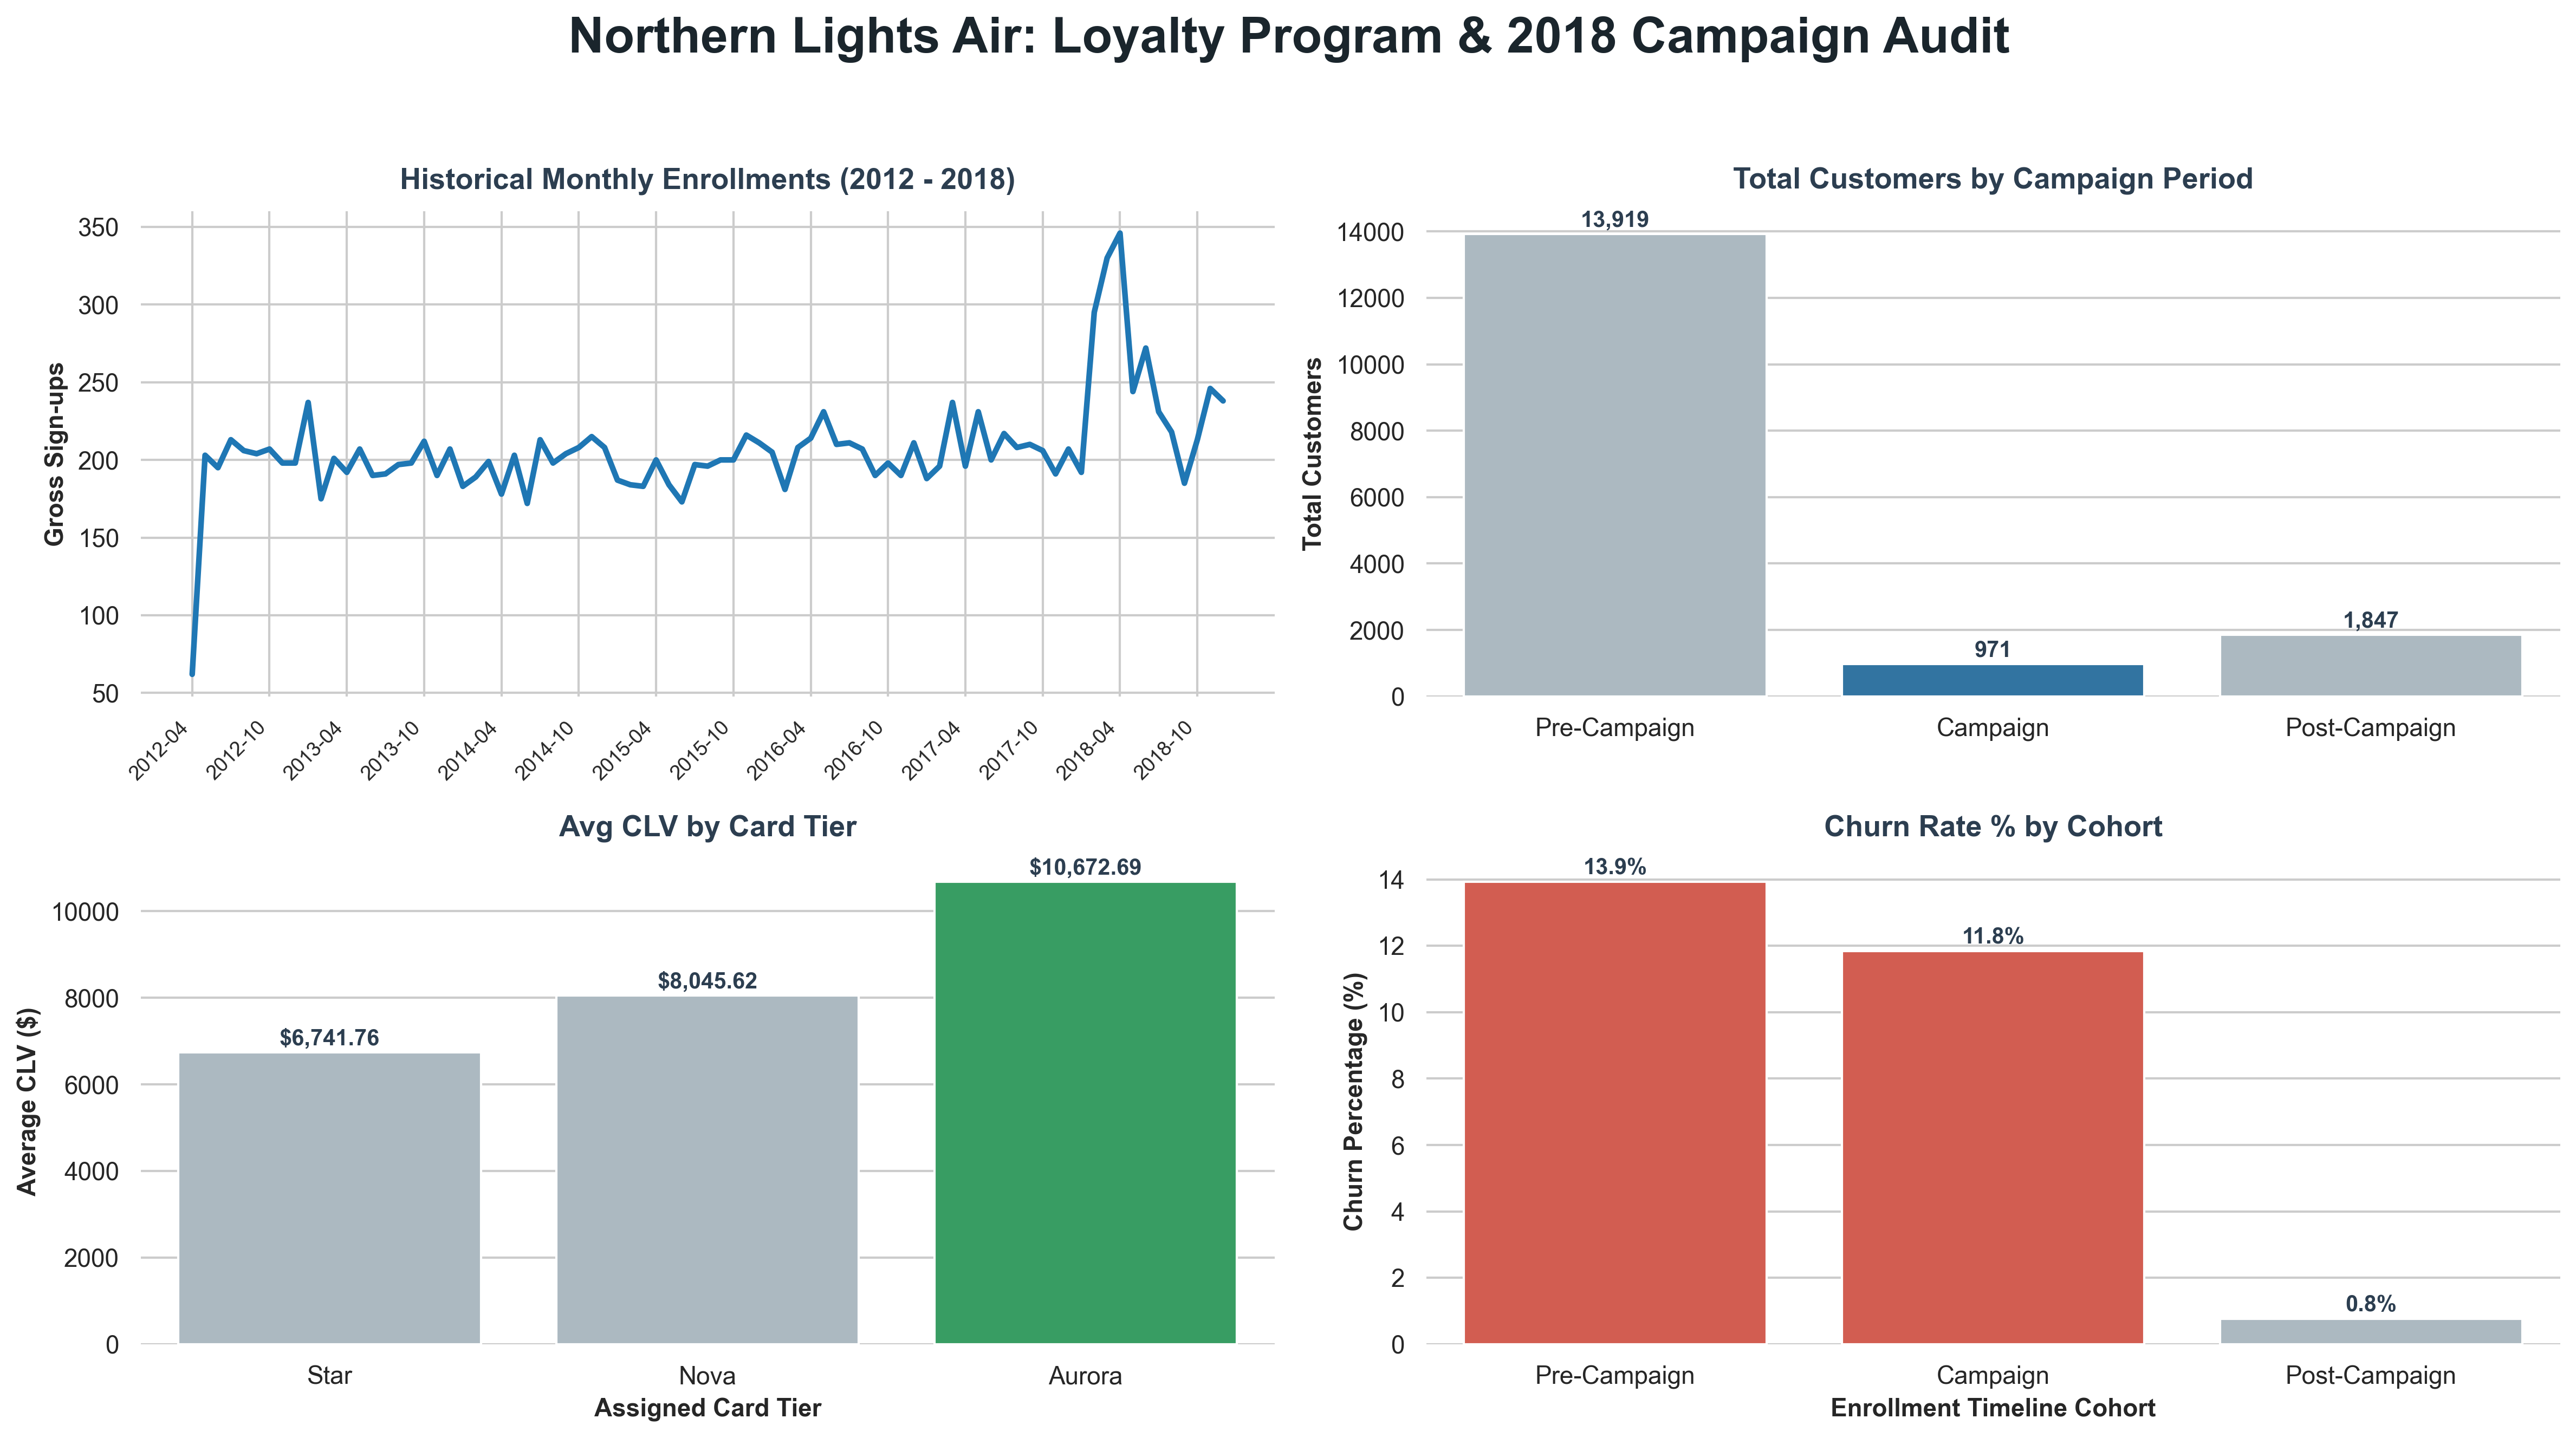

This screenshot's page, from the dashboard's own definition file:
{"tool":"powerbi","page":{"name":"Executive overview","canvas":[1280,720],"ordinal":0},"visuals":[{"type":"card","title":"Total Members","fields":{"Values":["CountNonNull(final_customer_data.loyalty_number)"]},"box":[212.9,84.3,162.9,71.4],"z":0},{"type":"shape","box":[0,0,188.6,720],"z":1000},{"type":"card","title":"Active Members","fields":{"Values":["measures (2).Active Members"]},"box":[405.7,84.3,162.9,71.4],"z":2000},{"type":"card","title":"Retention Rate","fields":{"Values":["measures (2).Retention Rate"]},"box":[1001.4,84.3,162.9,71.4],"z":3000},{"type":"card","title":"Average CLV","fields":{"Values":["measures (2).Average CLV"]},"box":[808.6,84.3,162.9,71.4],"z":4000},{"type":"card","title":"Cancelled Members","fields":{"Values":["measures (2).Cancelled Members"]},"box":[598.6,84.3,177.1,71.4],"z":5000},{"type":"lineChart","title":"Member Enrollment Pattern ","fields":{"Category":["Customers.enrollment_date"],"Y":["Count(Customers.loyalty_number)"]},"box":[188.6,175.7,731.4,268.6],"z":6000},{"type":"clusteredColumnChart","fields":{"Category":["Customers.campaign_period"],"Y":["measures (2).Total Members"]},"box":[890,162.5,390,263.8],"z":7000},{"type":"textbox","box":[1060,181.4,185.7,24.3],"z":8000},{"type":"textbox","box":[224.3,175.7,240,28.6],"z":9000},{"type":"donutChart","fields":{"Category":["Customers.loyalty_card"],"Y":["measures (2).Total Members"]},"box":[738.8,487.5,246.2,232.5],"z":10000},{"type":"textbox","box":[747.5,471.2,230,25],"z":11000},{"type":"clusteredColumnChart","fields":{"Category":["Customers.loyalty_card"],"Y":["measures (2).Average CLV"]},"box":[993.8,467.5,252.5,252.5],"z":12000},{"type":"textbox","box":[1026.2,471.2,203.8,25],"z":13000},{"type":"shape","box":[464.3,181.4,90,22.9],"z":14000},{"type":"shape","box":[188.6,182.9,48.6,14.3],"z":15000},{"type":"shape","box":[548.6,185.7,12.9,14.3],"z":16000},{"type":"clusteredBarChart","fields":{"Category":["Customers.province"],"Y":["Count(Customers.loyalty_number)"]},"box":[197.5,445,498.8,275],"z":17000},{"type":"textbox","box":[463.8,635,168.8,25],"z":18000},{"type":"textbox","box":[852.5,417.5,427.5,53.8],"z":19000},{"type":"slicer","title":"Salary Range","fields":{"Values":["Customers.salary_buckets"]},"box":[30,317.5,127.5,150],"z":19001},{"type":"slicer","title":"Select Province","fields":{"Values":["Customers.province"]},"box":[12.5,218.8,161.2,76.2],"z":19002},{"type":"slicer","title":"Gender","fields":{"Values":["Customers.gender"]},"box":[30,485,127.5,97.5],"z":19003},{"type":"actionButton","box":[30,586.2,105,36.2],"z":19004},{"type":"actionButton","box":[0,82.5,167.5,56.2],"z":19005},{"type":"actionButton","box":[0,26.2,167.5,36.2],"z":19006},{"type":"textbox","box":[311.2,0,817.5,48.8],"z":19007},{"type":"textbox","box":[640,43.8,137.5,38.8],"z":19008},{"type":"shape","box":[1128.8,7.5,151.2,38.8],"z":19009},{"type":"shape","box":[188.8,6.2,122.5,38.8],"z":19010}]}

Visuals, with their boxes in screenshot pixels (x1, y1, x2, y2), scaled from the page's 1280x720 canvas onto the 2576x1438 screenshot:
"Total Members" card: select_region(429, 168, 756, 311)
shape: select_region(0, 0, 380, 1437)
"Active Members" card: select_region(816, 168, 1144, 311)
"Retention Rate" card: select_region(2015, 168, 2343, 311)
"Average CLV" card: select_region(1627, 168, 1955, 311)
"Cancelled Members" card: select_region(1205, 168, 1561, 311)
"Member Enrollment Pattern " lineChart: select_region(380, 351, 1852, 887)
clusteredColumnChart - Customers.campaign_period x measures (2).Total Members: select_region(1791, 324, 2575, 851)
textbox: select_region(2133, 362, 2507, 411)
textbox: select_region(451, 351, 935, 408)
donutChart - Customers.loyalty_card x measures (2).Total Members: select_region(1487, 974, 1982, 1437)
textbox: select_region(1504, 941, 1967, 991)
clusteredColumnChart - Customers.loyalty_card x measures (2).Average CLV: select_region(2000, 934, 2508, 1437)
textbox: select_region(2065, 941, 2475, 991)
shape: select_region(935, 362, 1115, 408)
shape: select_region(380, 365, 477, 394)
shape: select_region(1104, 371, 1130, 400)
clusteredBarChart - Customers.province x Count(Customers.loyalty_number): select_region(398, 889, 1401, 1437)
textbox: select_region(933, 1268, 1273, 1318)
textbox: select_region(1716, 834, 2575, 941)
"Salary Range" slicer: select_region(60, 634, 317, 934)
"Select Province" slicer: select_region(25, 437, 349, 589)
"Gender" slicer: select_region(60, 968, 317, 1163)
actionButton: select_region(60, 1171, 272, 1243)
actionButton: select_region(0, 165, 337, 277)
actionButton: select_region(0, 53, 337, 125)
textbox: select_region(626, 0, 2272, 97)
textbox: select_region(1288, 88, 1565, 165)
shape: select_region(2272, 15, 2575, 93)
shape: select_region(380, 12, 626, 90)
